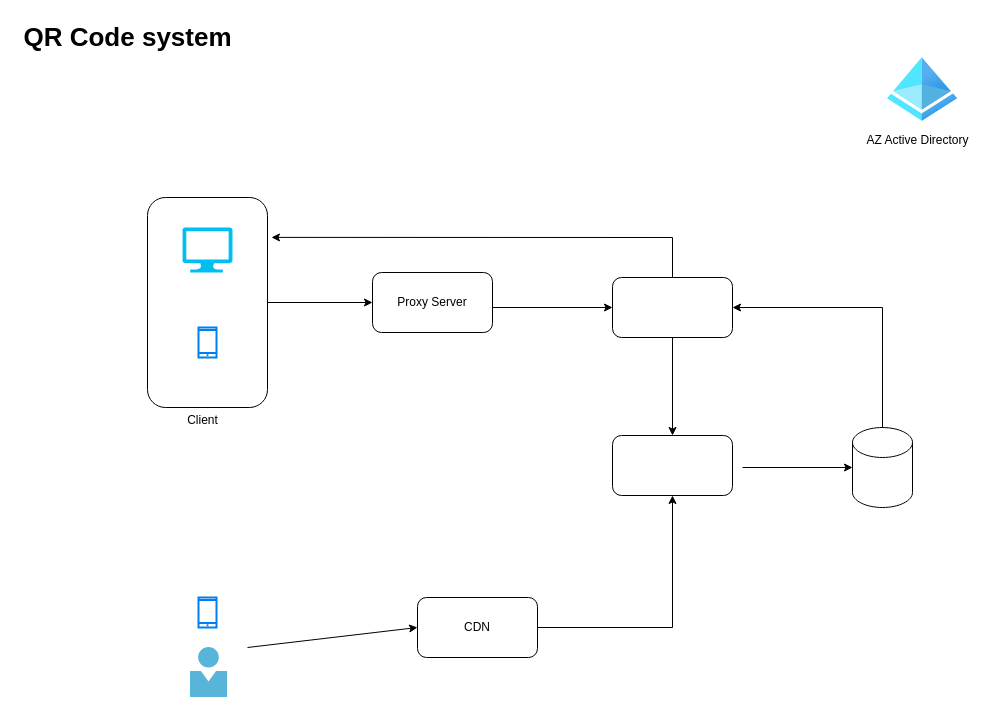
The diagram is 999 pixels wide and 714 high, and some of its shapes have lost their labels. The centre of each missing label's shape, as x and y in pixels:
"QR Code Service" goes at pixel 672 307.
"URL Shortener Service" goes at pixel 672 465.
